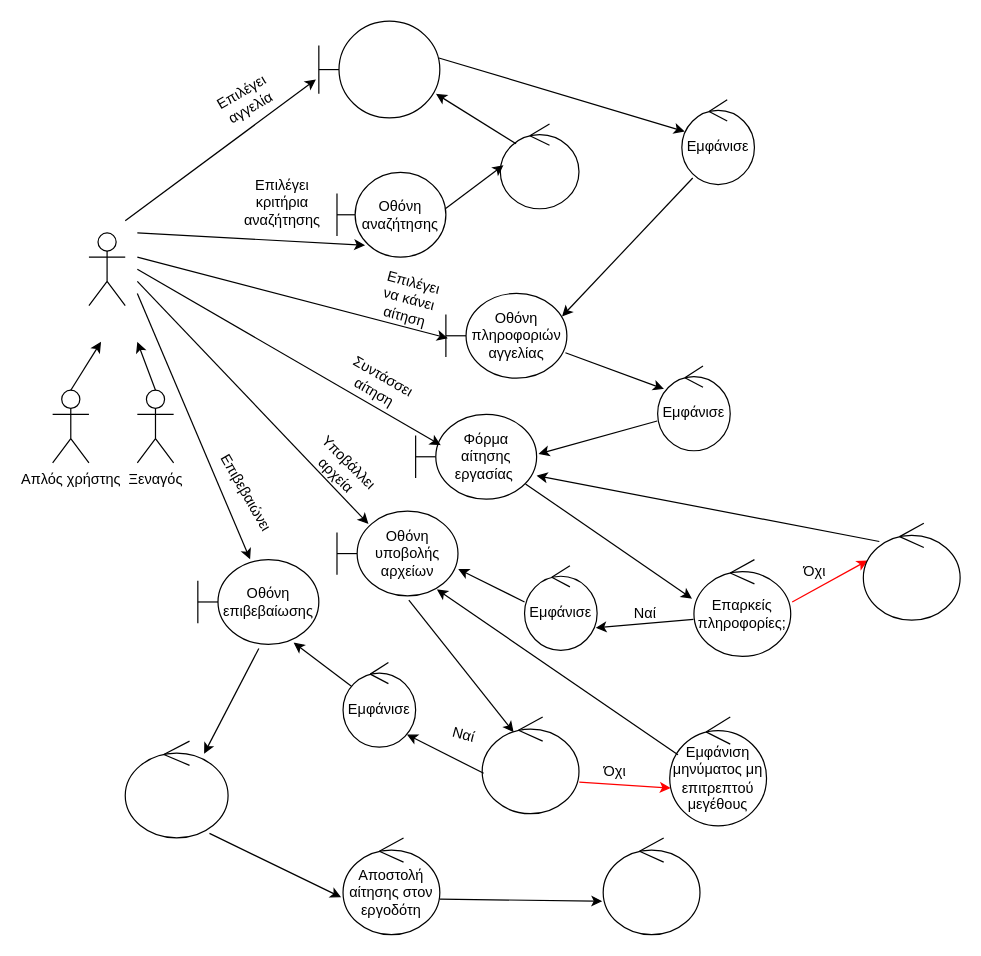
This 981x956 diagram has some shape labels left out. The centre of each missing label's shape, as x and y in pixels:
"Ανανέωσε" belongs at point (539, 166).
"Αποθήκευσε" belongs at point (176, 789).
"Γενική λίστα αγγελιών εργασίας" belongs at point (379, 69).
"Εμφάνιση μηνύματος έλλειψης" belongs at point (911, 571).
"Εμφάνιση μηνύματος επιτυχίας" belongs at point (651, 886).
"Επιτρεπτό μέγεθος;" belongs at point (530, 765).
"Χειριστής" belongs at point (106, 269).
